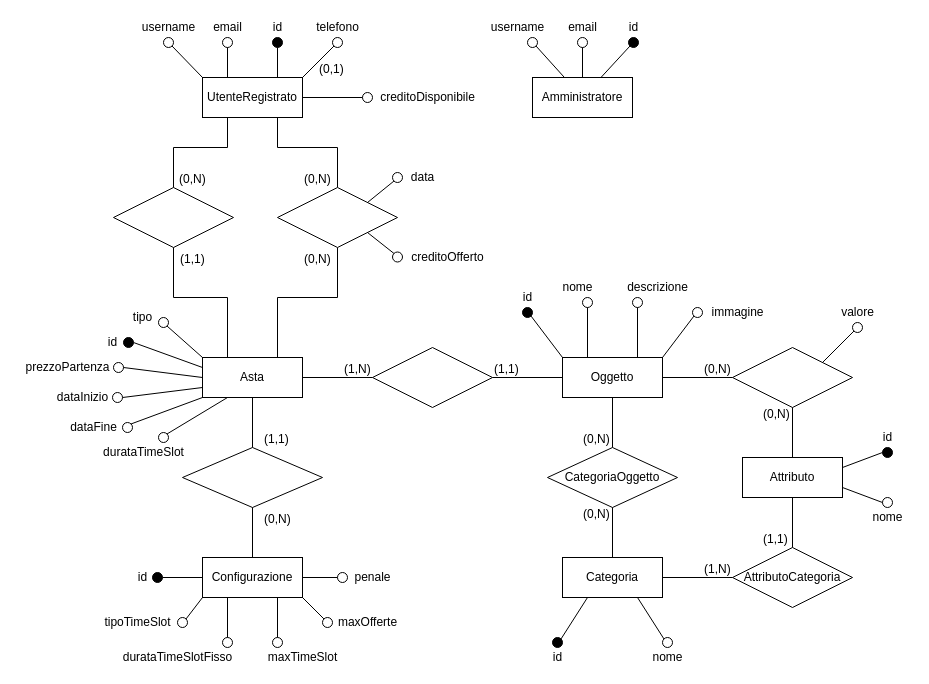
Image size: 929x684. Some labels were removed from this diagram. The shapes that lost their labels are listed below. From the top down, each one's centre as x and y in pixels, then its label:
point (173, 217): AstaManager
point (337, 217): Offerta
point (432, 377): Lotto
point (792, 377): AttributoOggetto
point (252, 477): ConfigurazioneAsta
